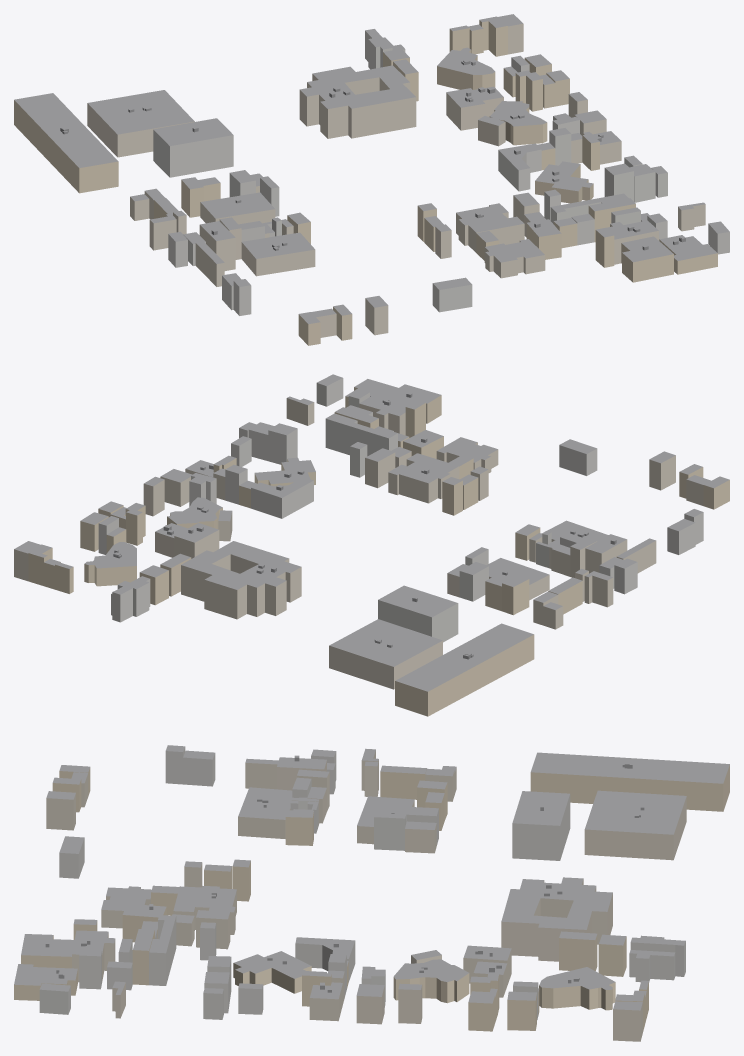
The model's file is building_4_-2.glb.
3 renders of one model, top to bottom at view 1: azimuth 30°, elevation 25°; view 2: azimuth 150°, elevation 25°; view 3: azimuth 270°, elevation 25°, orthographic. The views are drawn at different scales.
Visible parts, largest first — view 1: roof, concrete_warm, sandstone, concrete_light; view 2: roof, concrete_warm, sandstone, concrete_light; view 3: roof, sandstone, concrete_warm, concrete_light.
Part boxes in pixels (x1,y1,x2,y2): roof: (14,14,729,324); concrete_warm: (87,23,705,337); sandstone: (14,20,717,345); concrete_light: (153,30,729,315); roof: (14,374,729,691); concrete_warm: (14,398,703,689); sandstone: (28,387,729,716); concrete_light: (98,378,703,642); roof: (14,745,729,1010); sandstone: (14,765,729,1031); concrete_warm: (46,750,686,1041); concrete_light: (39,747,685,1019).
Size of the model in its own units: 251 by 17.24 by 288.
